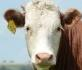muzzles: (30, 50, 56, 69)
